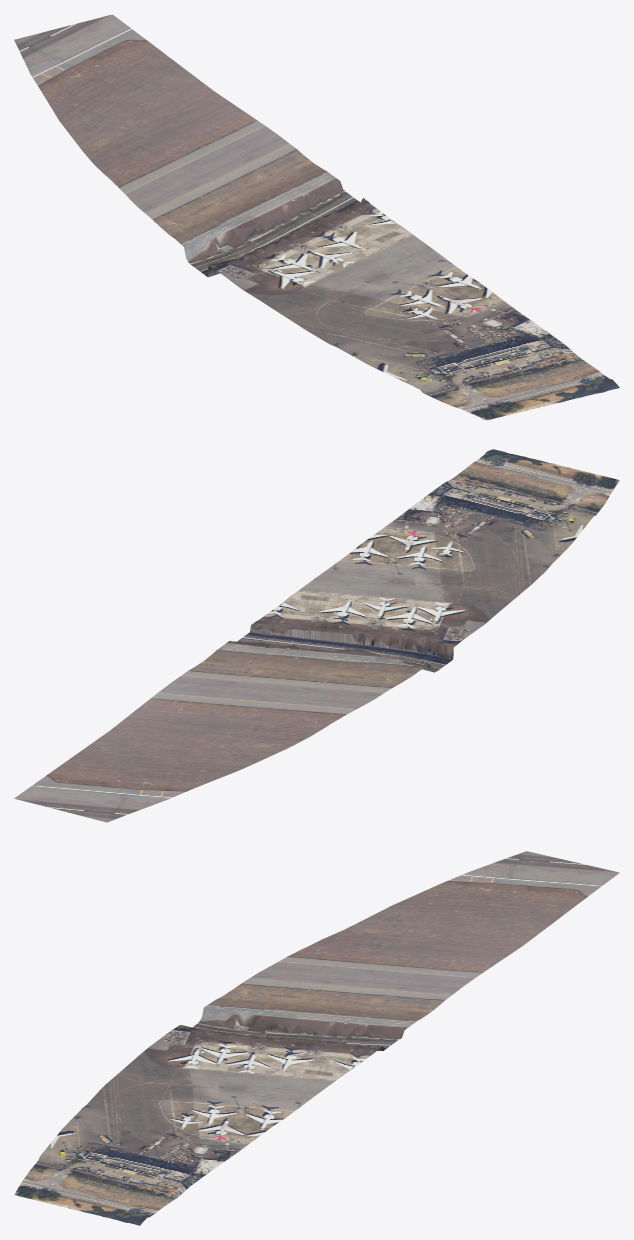
The model's file is terrain_10.glb.
3 views of the same model, one above another, from view 1: azimuth 30°, elevation 25°; view 2: azimuth 150°, elevation 25°; view 3: azimuth 330°, elevation 25° (orthographic). The views are drawn at different scales.
Visible parts, largest first — view 1: T08250174000106E11.001; view 2: T08250174000106E11.001; view 3: T08250174000106E11.001.
Boxes of the visible parts, bbox=[...] form: T08250174000106E11.001: bbox=[14, 14, 619, 420]; T08250174000106E11.001: bbox=[14, 449, 619, 822]; T08250174000106E11.001: bbox=[14, 851, 619, 1225].
Size of the model in its own units: 126 by 9.31 by 600.
1 material, 1 textured.
